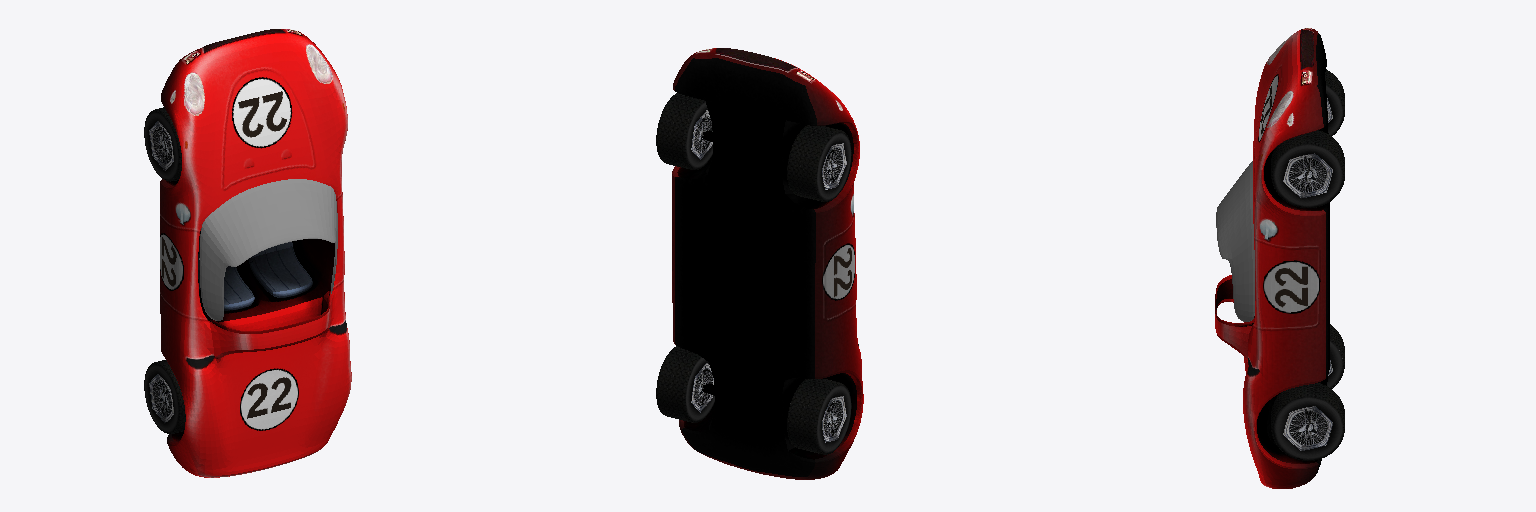
The picture shows the model from 3 angles: view 1: azimuth 30°, elevation 25°; view 2: azimuth 150°, elevation 25°; view 3: azimuth 270°, elevation 25°; orthographic projection.
Parts seen in each view (by area): view 1: 10604_slot_car_red, 10604_slot_car_red_glass; view 2: 10604_slot_car_red; view 3: 10604_slot_car_red, 10604_slot_car_red_glass.
Part boxes in pixels (x1,y1,x2,y2): 10604_slot_car_red: (144,29,351,477); 10604_slot_car_red_glass: (199,179,337,320); 10604_slot_car_red: (656,48,863,479); 10604_slot_car_red: (1215,28,1344,488); 10604_slot_car_red_glass: (1216,161,1254,321).
Size of the model in its own units: 2.05 by 4.95 by 1.39.
Materials: 2 (1 with a texture image).